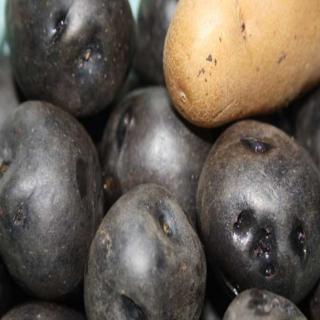Potato: (161, 0, 320, 129)
